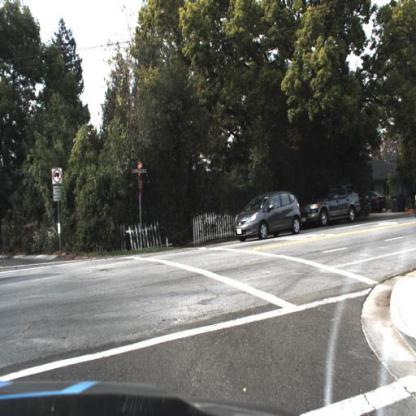car: (235, 190, 301, 242), (302, 178, 361, 228), (367, 190, 390, 216)
